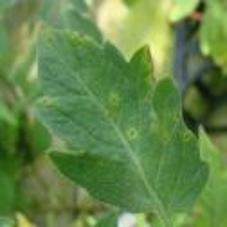Bacterial Spot: (32, 27, 211, 213)
